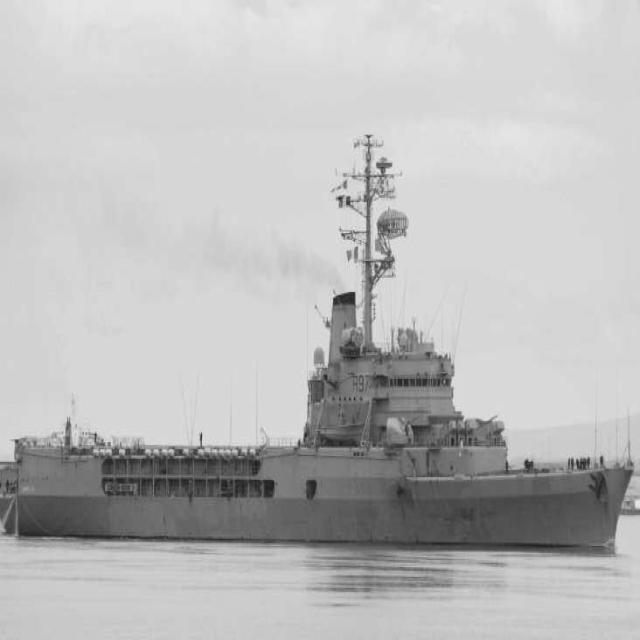Portanaves: (1, 118, 640, 556)
